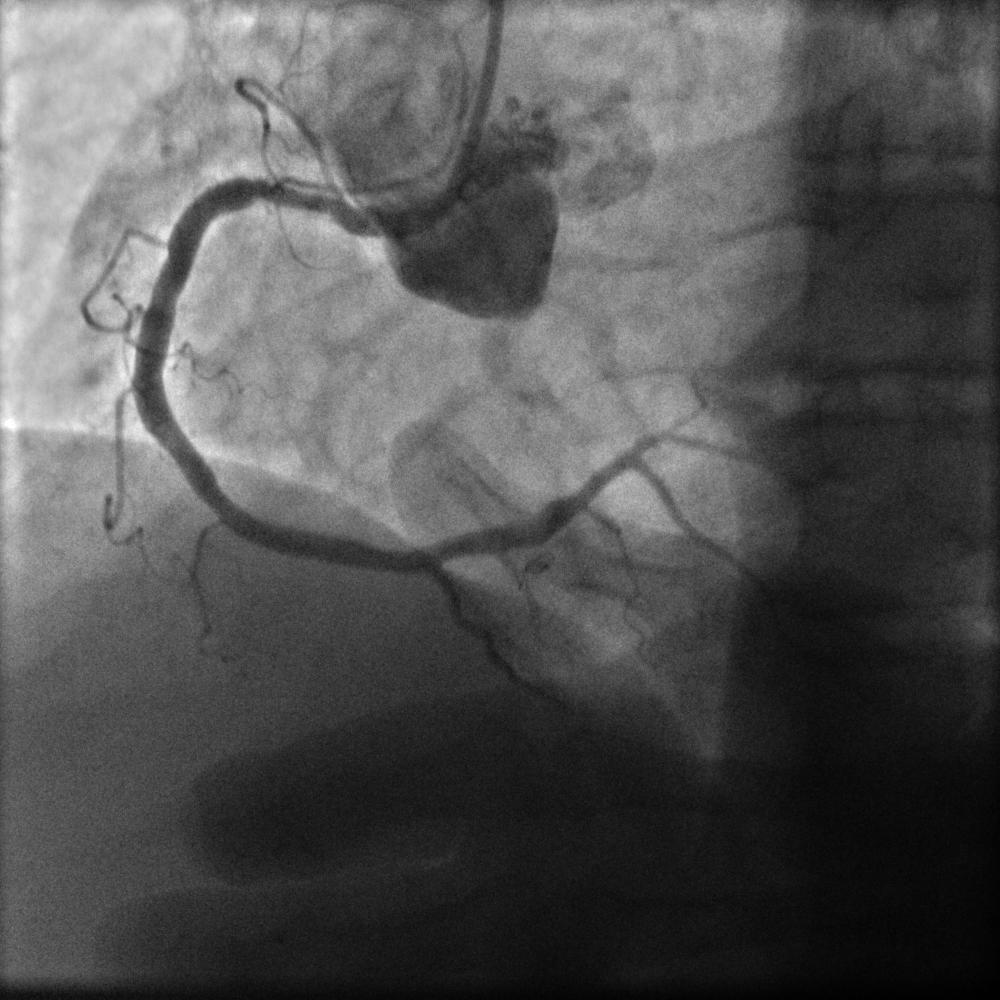Stenosis: (244, 170, 345, 226)
